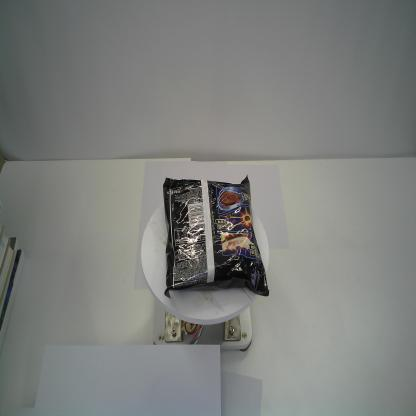Instant Noodles: (159, 172, 270, 300)
